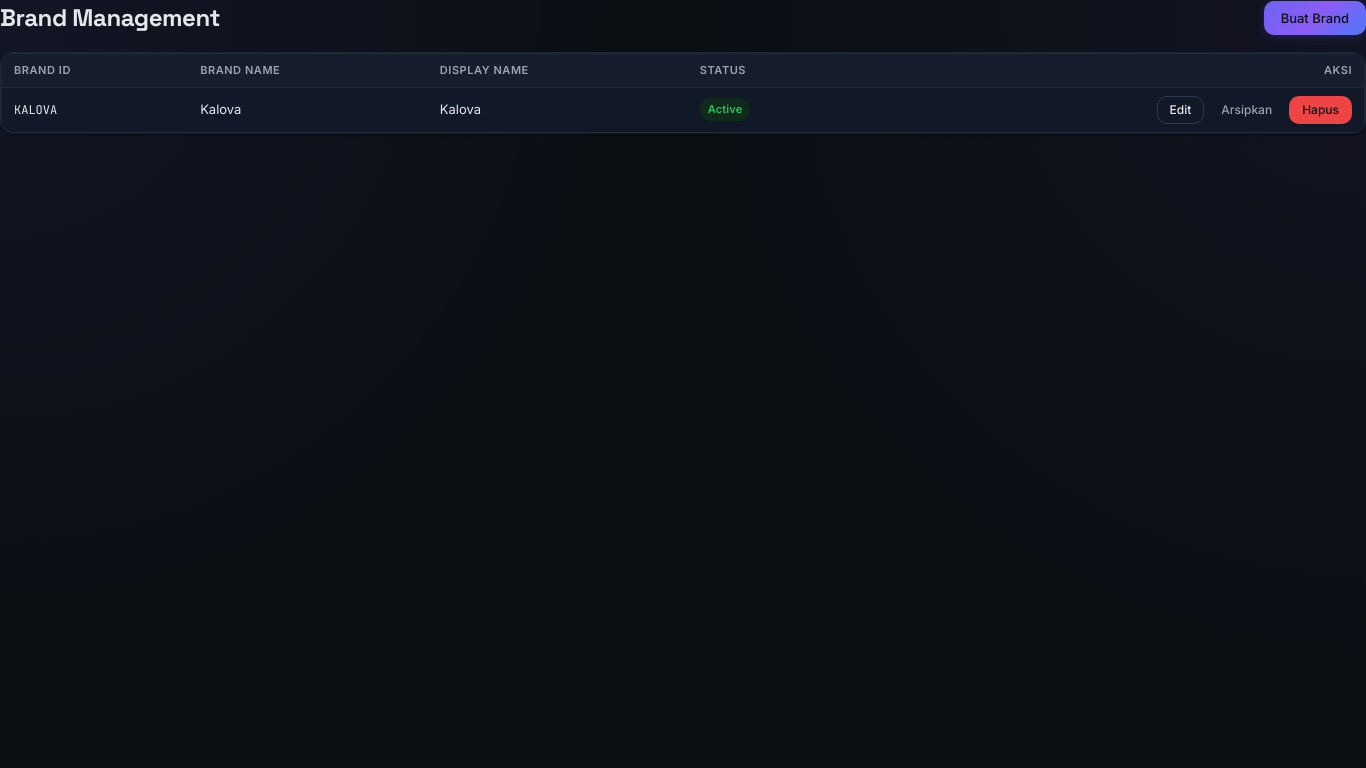
it: BrandManagementView › deletes a Brand with no related data (Req 19.5)
Click the button with aria-label "Hapus Brand Kalova" at (1321, 110), box x1=1289 y1=96 x2=1352 y2=124
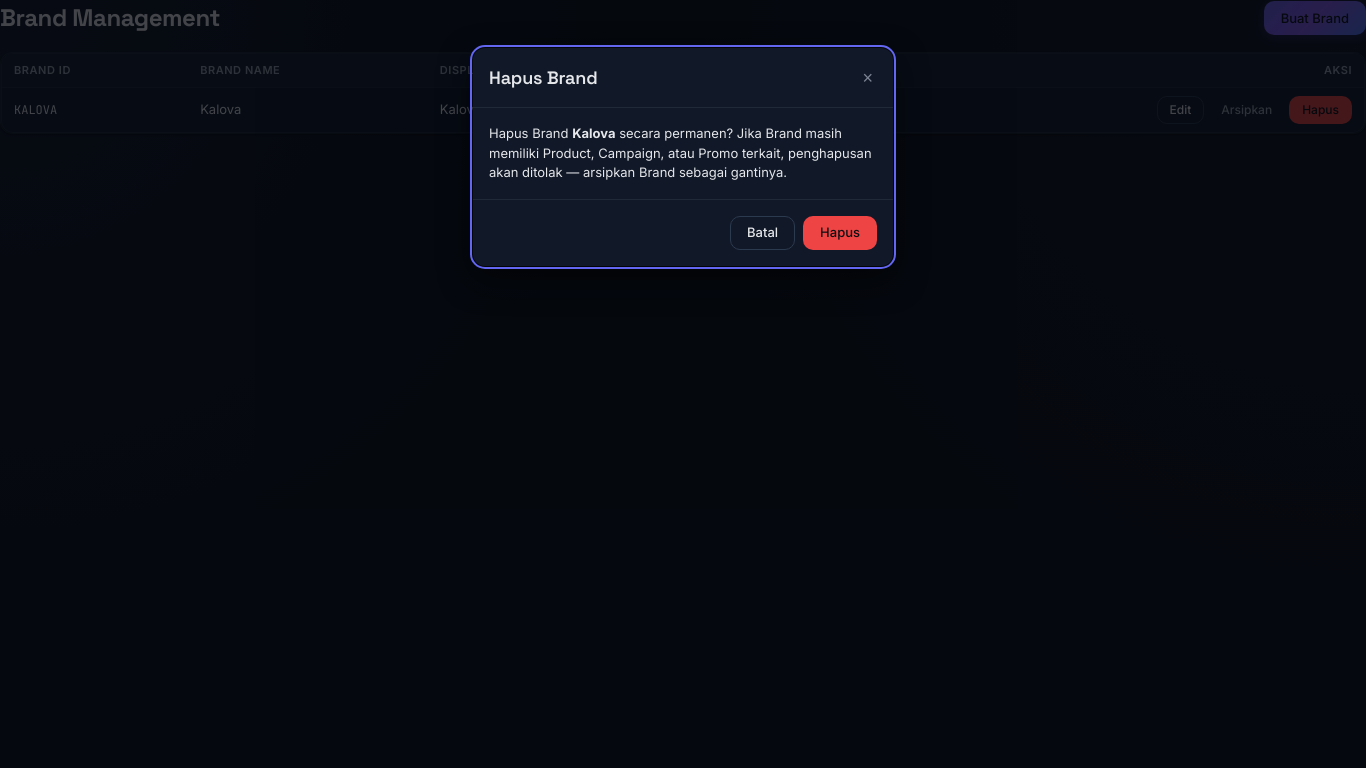
Click the button "Hapus" at (840, 232), box x1=803 y1=216 x2=877 y2=250
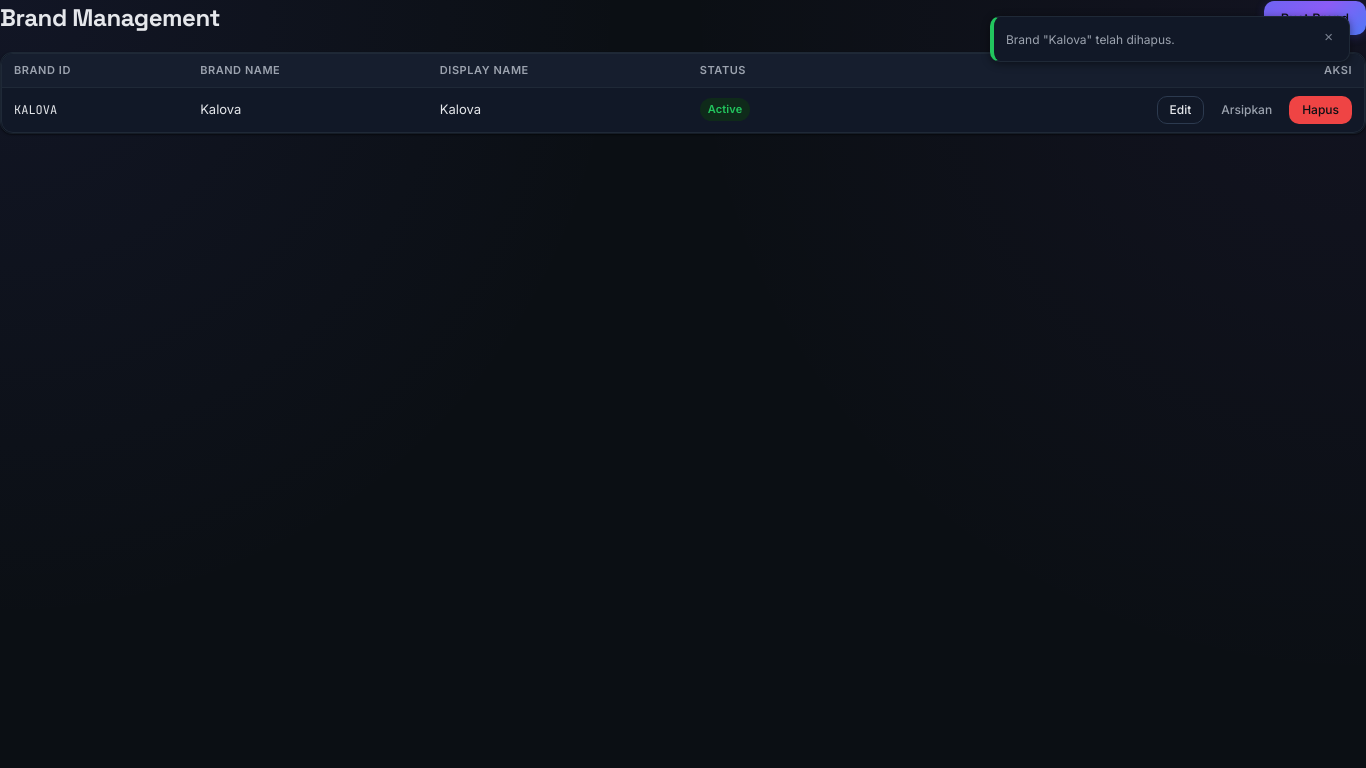
Expected: the text "Brand \"Kalova\" telah dihapus." is shown, x1=1006 y1=32 x2=1175 y2=47
